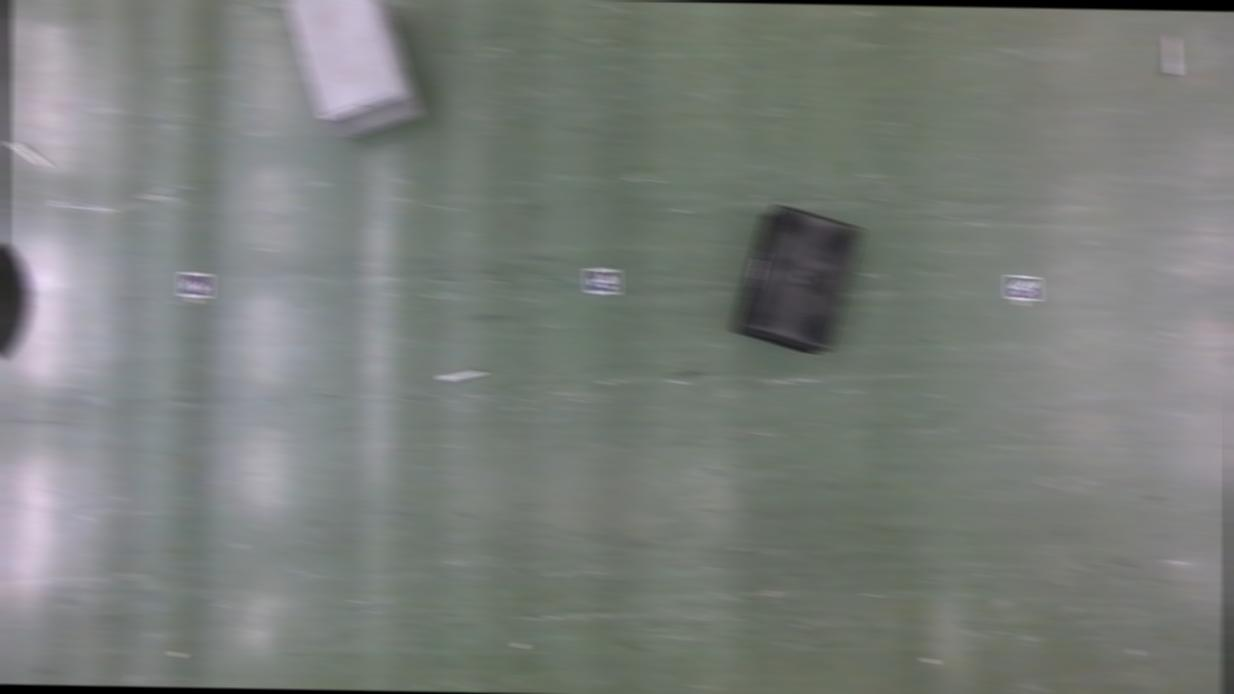probes: (7, 142, 49, 168), (440, 369, 482, 382), (1165, 36, 1178, 76)
rako: (282, 0, 425, 142), (731, 205, 862, 356)
